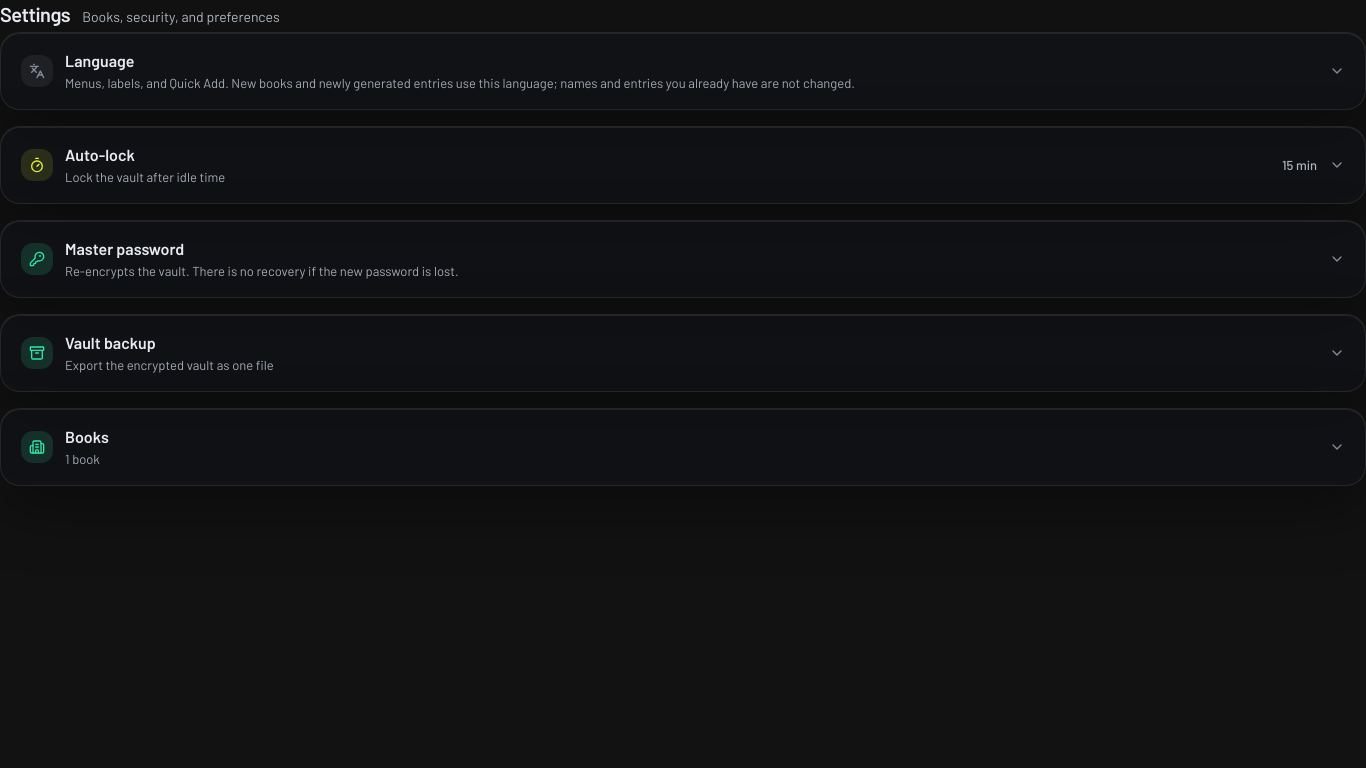
SettingsPage archiving a book › a failed archive closes the dialog and shows the screen sentence, never the raw text
The width and height of the screenshot is (1366, 768).
Click the button "Books 1 book".
click(37, 447)  # box [1,409,1365,485]
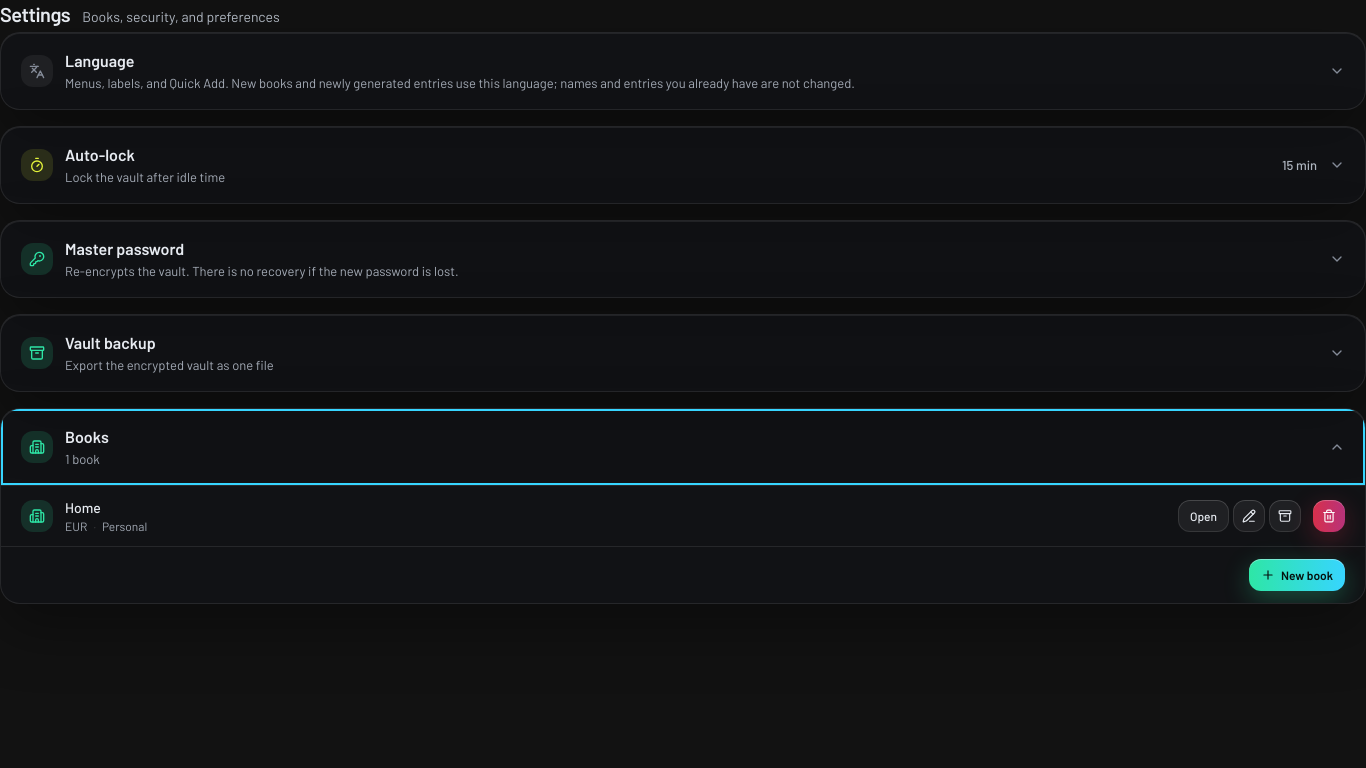
Click the button named "Archive Home".
click(1285, 516)  # box [1269,500,1301,532]
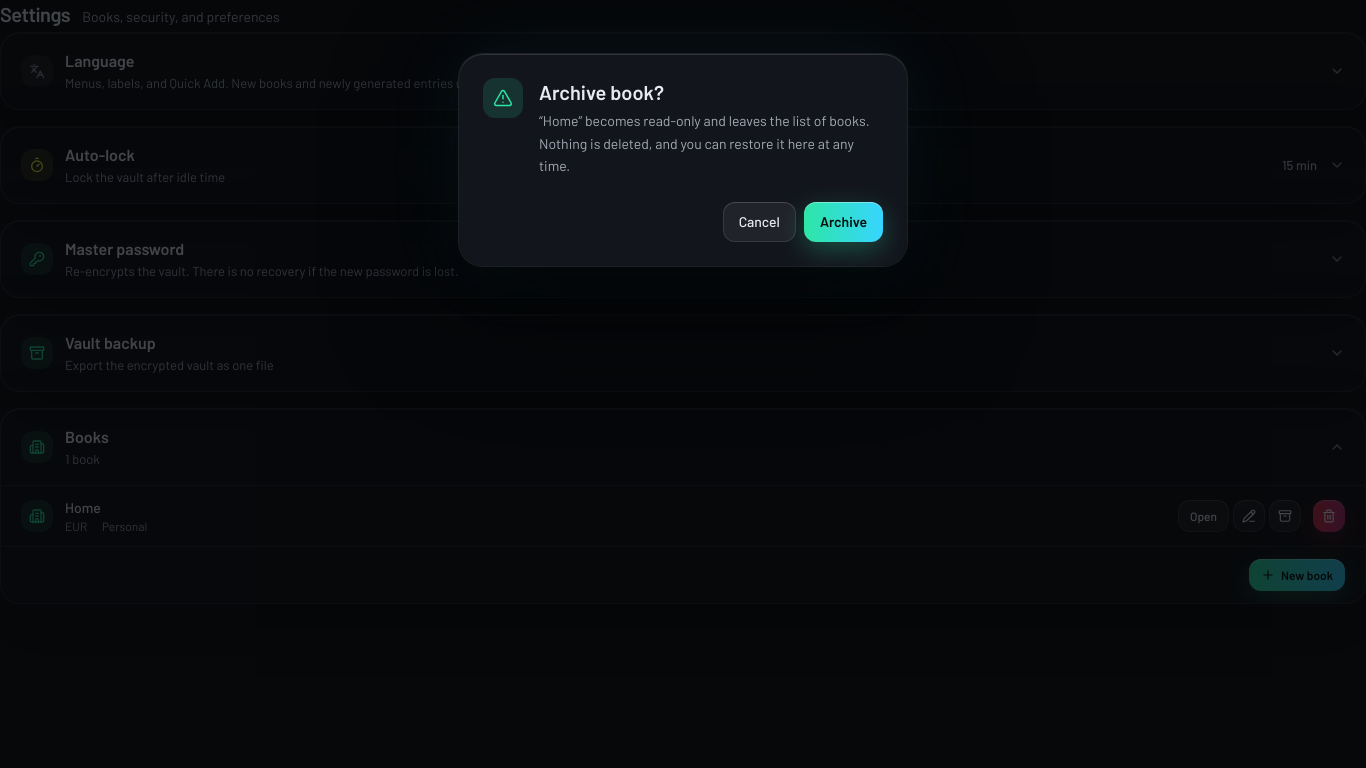
Click the button "Archive".
click(843, 222)  # box [804,202,883,242]
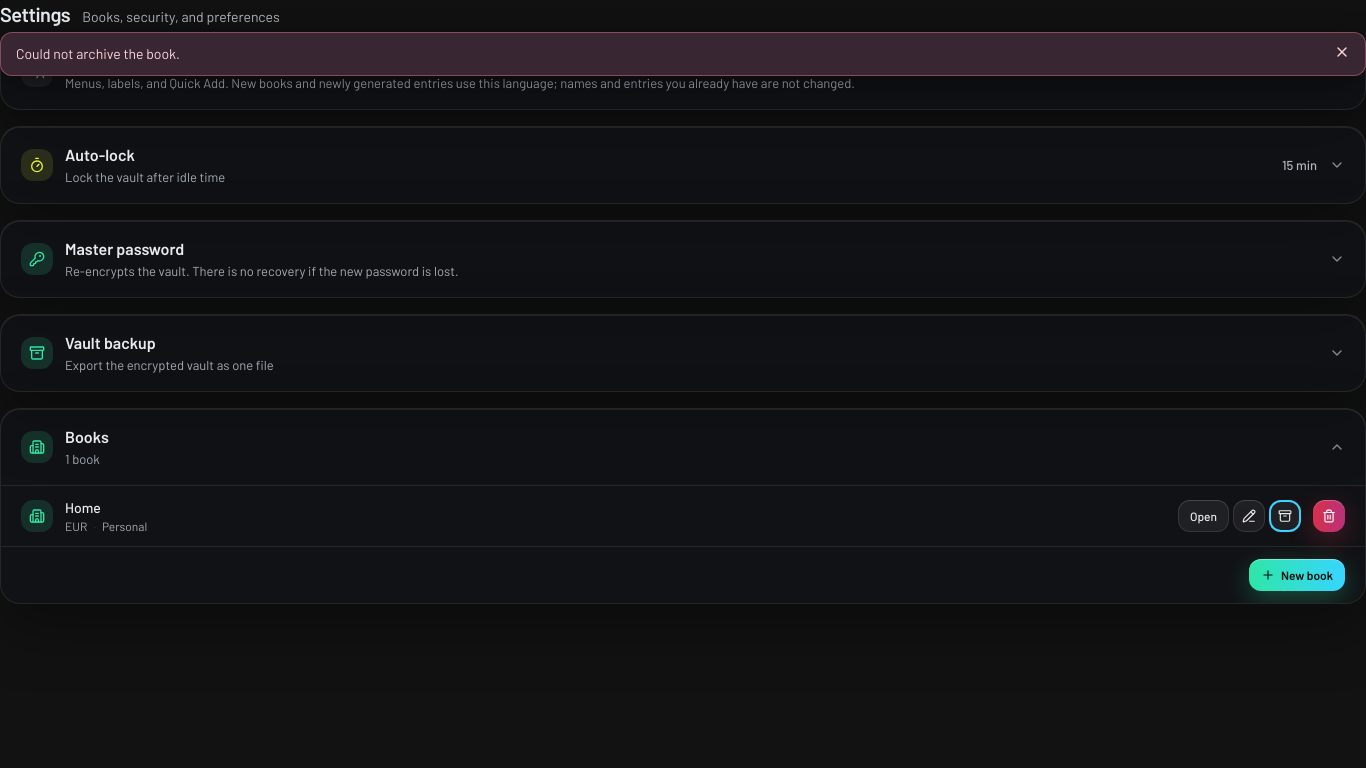
Expected: the message reads "Could not archive the book.", [16,45,180,62]
Expected: the dialog is gone
